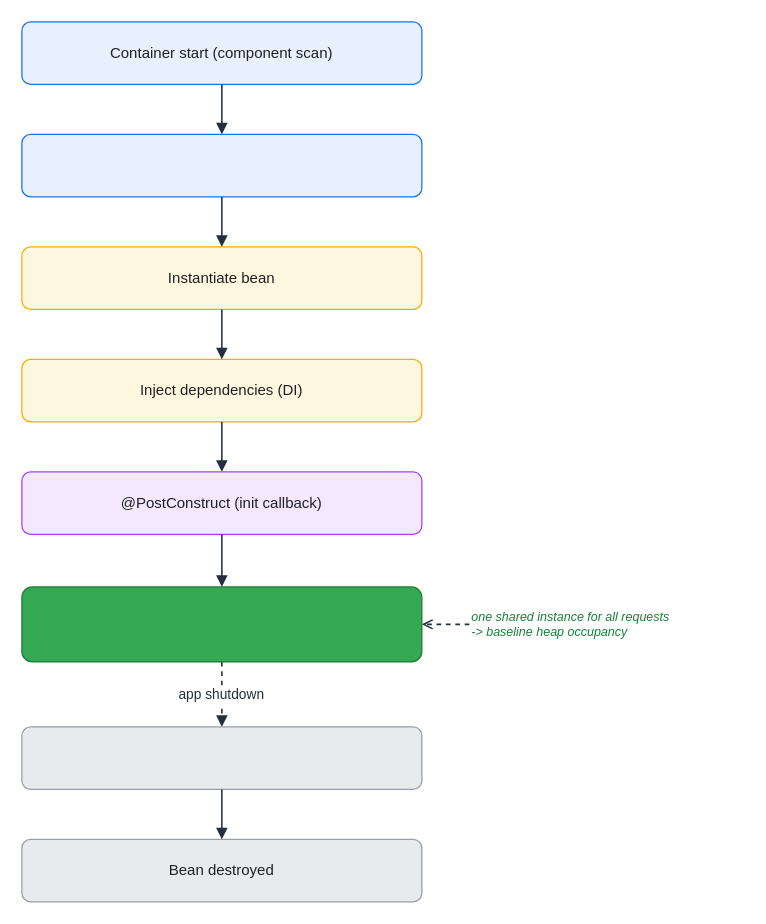
Image size: 766x924. Some labels were removed from this diagram. Here are the shapes that lost their labels. From the top down, the box of each, then its label:
(21, 133, 422, 197): Register BeanDefinition
(21, 586, 422, 662): Bean ready (singleton in heap)
(21, 726, 422, 789): @PreDestroy (on shutdown)
